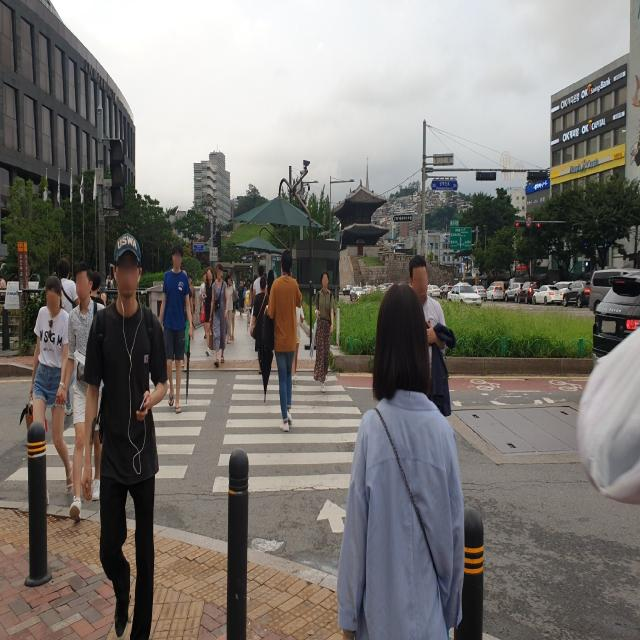횡단보도: (4, 369, 376, 536)
